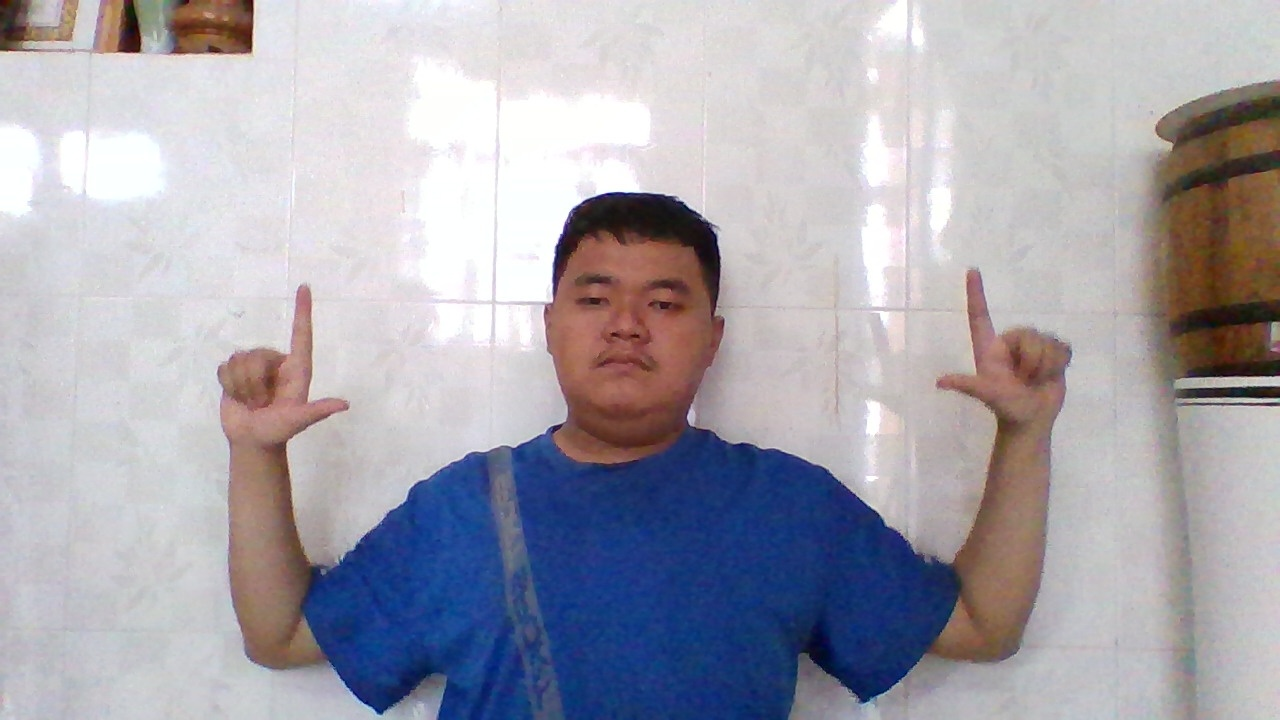L: (205, 274, 358, 457), (925, 257, 1079, 434)
